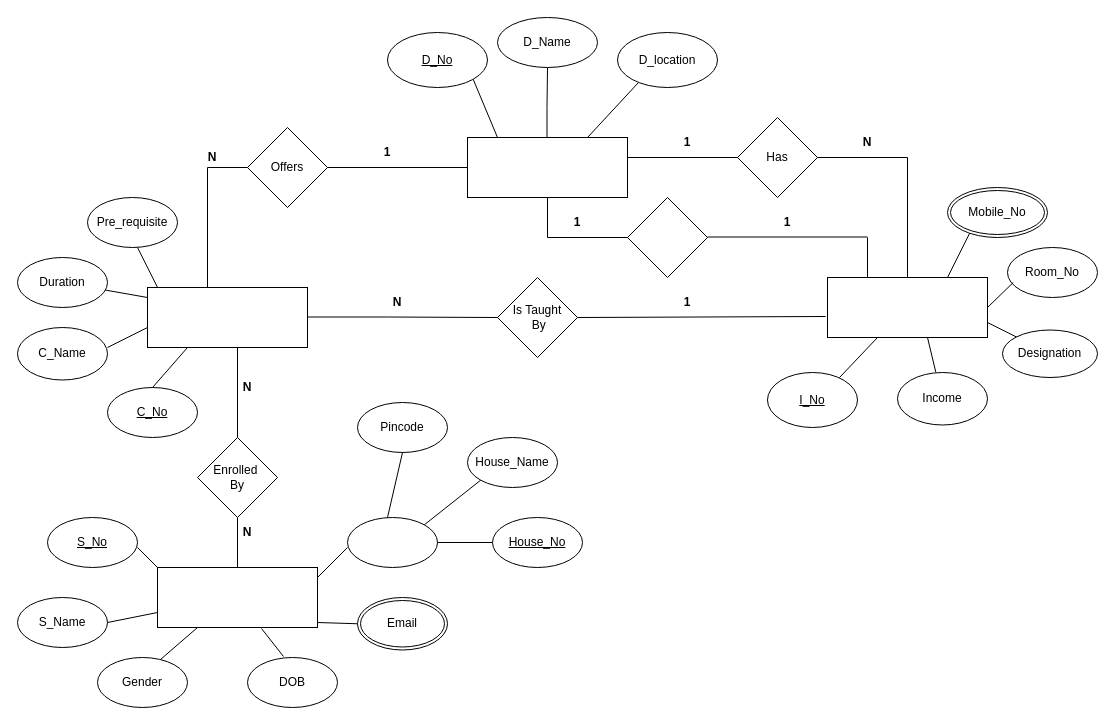
This 1115x725 diagram has some shape labels left out. Here are the shapes that lost their labels. From the top down, the centre of each, then its label:
At point (547, 167): "DEPARTMENT".
At point (667, 237): "Is Headed By".
At point (227, 317): "COURSE".
At point (907, 307): "INSTRUCTOR".
At point (392, 542): "Address".
At point (237, 597): "STUDENT".
